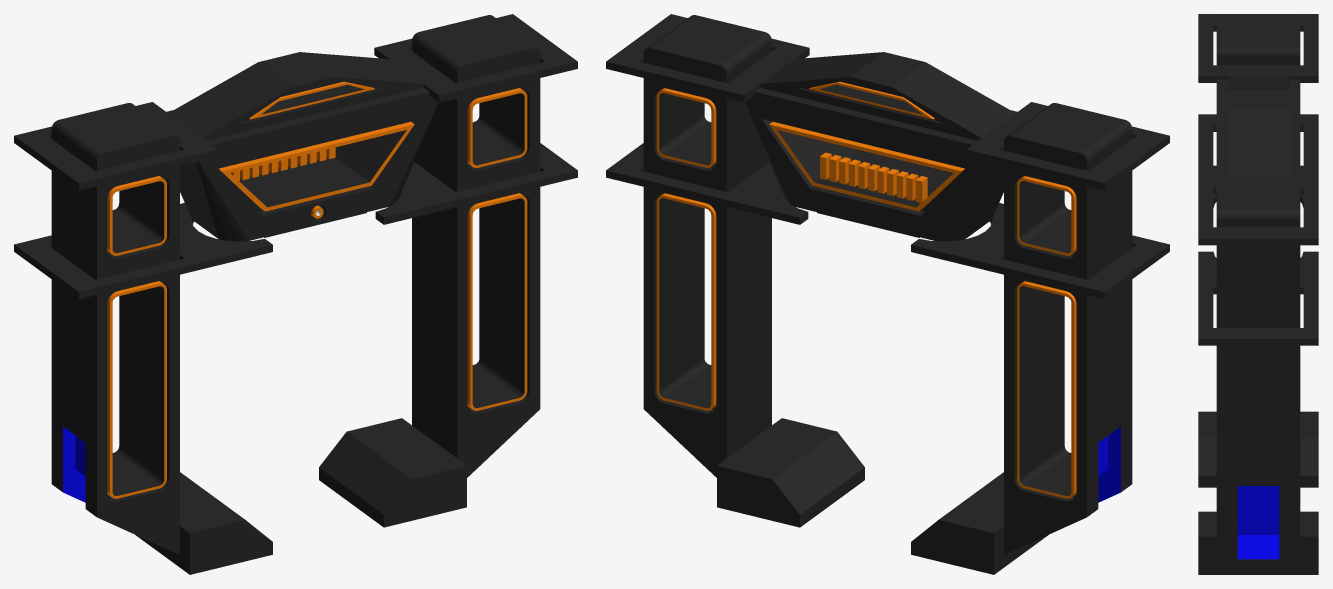
Rendered from Recognizer.dae.
The picture shows the model from 3 angles, left to right: view 1: azimuth 30°, elevation 25°; view 2: azimuth 150°, elevation 25°; view 3: azimuth 270°, elevation 25°; orthographic projection. The views are drawn at different scales.
Parts seen in each view (by area): view 1: SketchUp (×19); view 2: SketchUp (×19); view 3: SketchUp (×4).
Boxes of the visible parts, <box> form: SketchUp (×19): <box>14,14,577,574</box>; SketchUp (×19): <box>606,14,1169,574</box>; SketchUp (×4): <box>1198,14,1318,574</box>.
Size of the model in its own units: 732 by 165 by 628.
